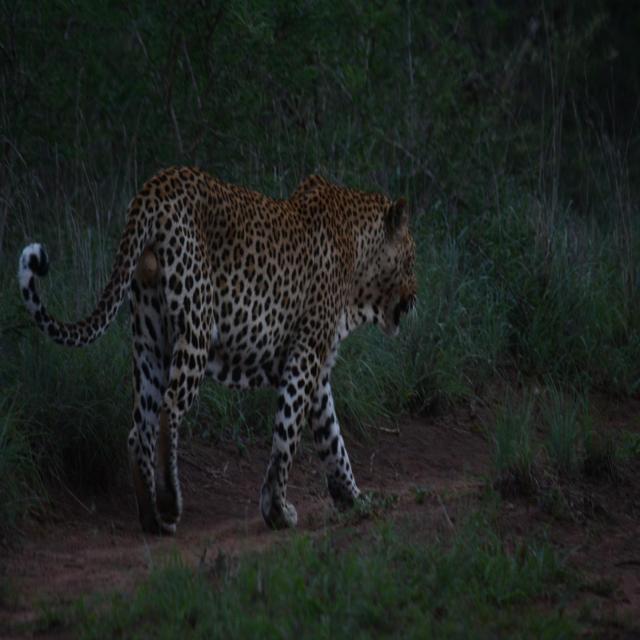Leopard: (41, 160, 434, 539)
